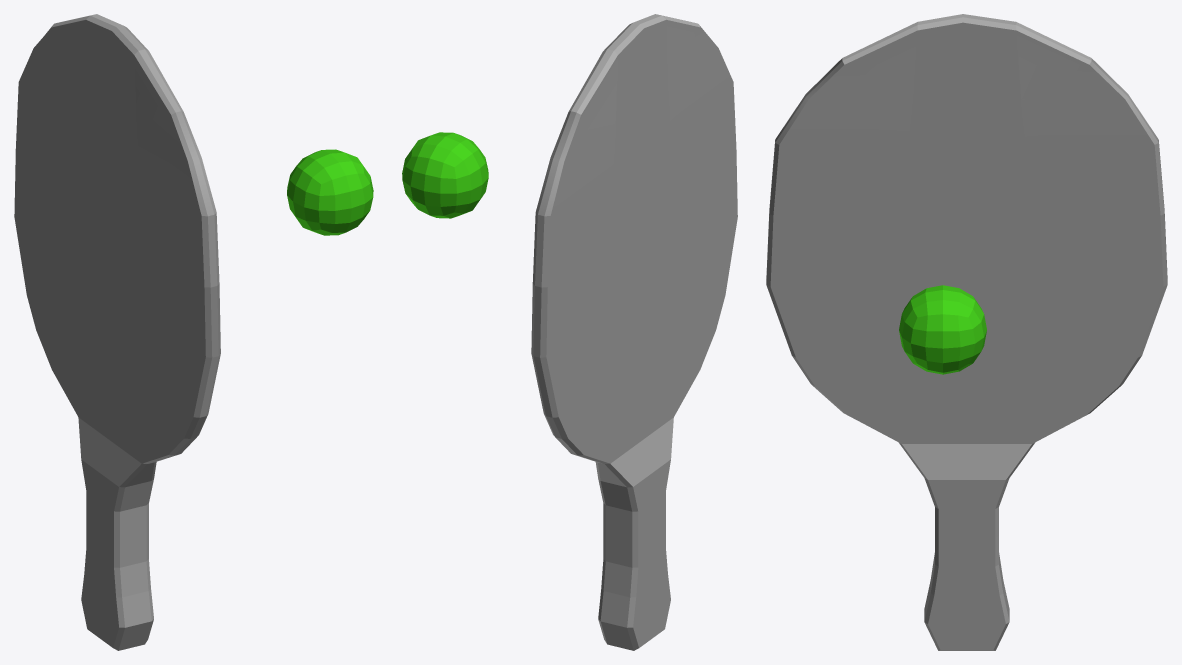
File: tenis.fbx
The picture shows the model from 3 angles, left to right: view 1: azimuth 30°, elevation 25°; view 2: azimuth 150°, elevation 25°; view 3: azimuth 270°, elevation 25°; orthographic projection. The views are drawn at different scales.
Visible parts, largest first — view 1: Racket, RacketBall; view 2: Racket, RacketBall; view 3: Racket, RacketBall.
Boxes of the visible parts, x1=… form: Racket: x1=14, y1=14, x2=220, y2=650; RacketBall: x1=287, y1=149, x2=373, y2=235; Racket: x1=531, y1=14, x2=737, y2=650; RacketBall: x1=402, y1=132, x2=488, y2=218; Racket: x1=766, y1=14, x2=1167, y2=650; RacketBall: x1=899, y1=285, x2=986, y2=374.
Bounding box in the file's own units: 36.71 × 84.09 × 48.67.
